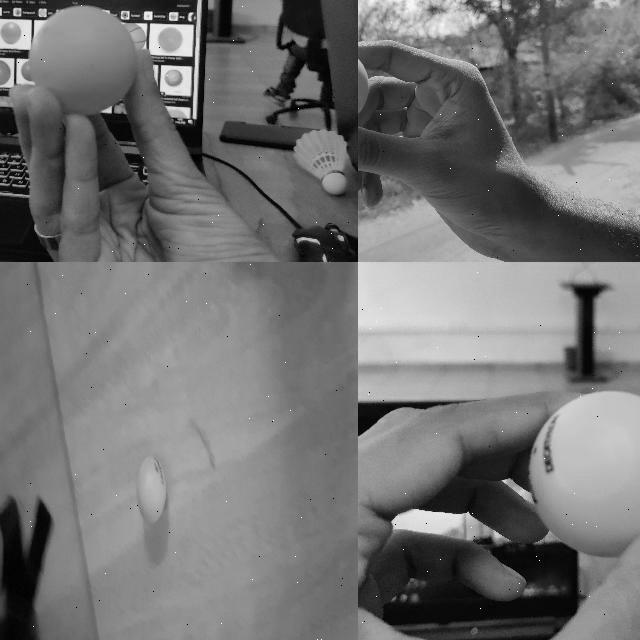ping-pong-ball: (526, 390, 639, 558), (28, 5, 136, 116), (136, 454, 166, 526)
